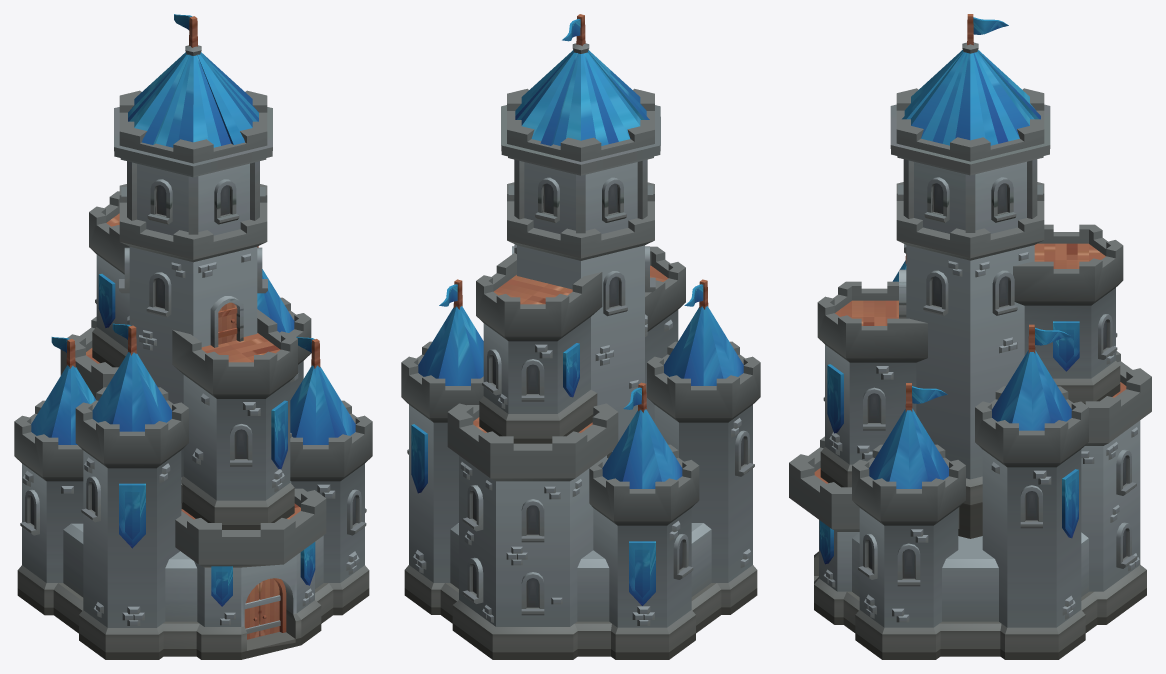
Rendered from hex_castle.glb.
The picture shows the model from 3 angles, left to right: view 1: azimuth 30°, elevation 25°; view 2: azimuth 150°, elevation 25°; view 3: azimuth 270°, elevation 25°; orthographic projection.
Visible parts, largest first — view 1: building_castle_blue; view 2: building_castle_blue; view 3: building_castle_blue.
Part boxes in pixels (bbox=[...]): building_castle_blue: bbox=[14, 14, 372, 659]; building_castle_blue: bbox=[401, 14, 760, 659]; building_castle_blue: bbox=[789, 14, 1151, 659].
Size of the model in its own units: 1.98 by 3.98 by 2.26.
1 material, 1 textured.
